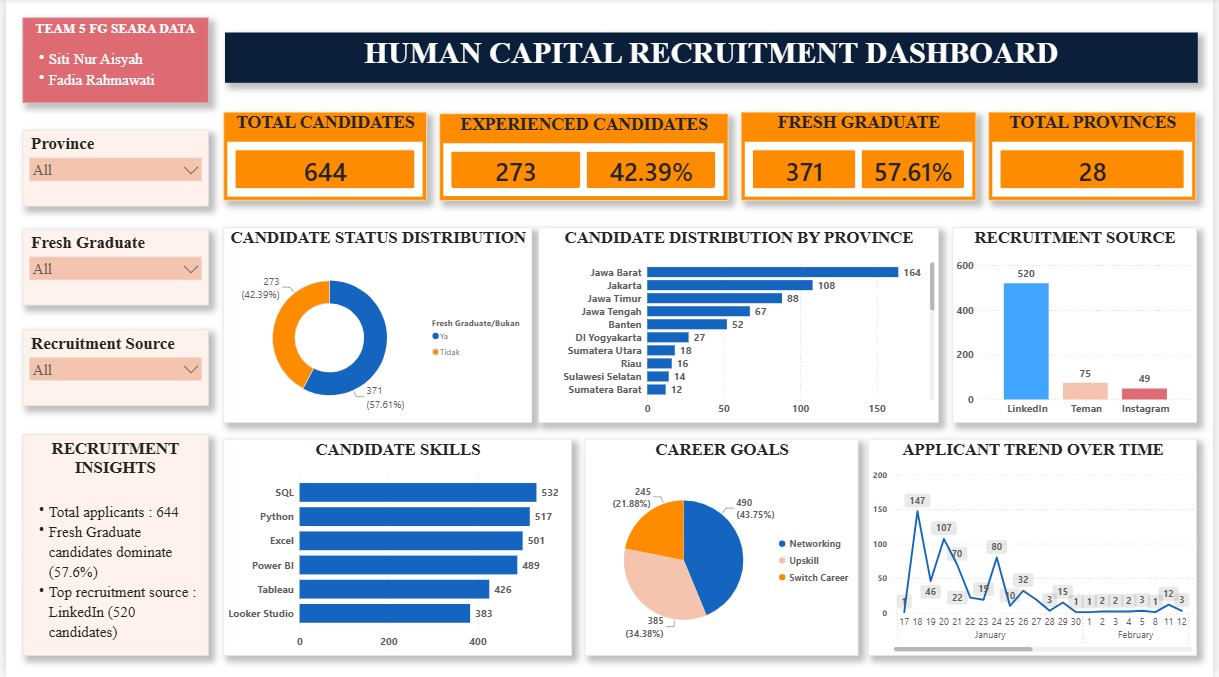

What the dashboard file says about the page in this screenshot:
{"tool":"powerbi","page":{"name":"Page 1","canvas":[1920,1080],"ordinal":0},"visuals":[{"type":"textbox","box":[347.3,55.9,1547.2,80.2],"z":0},{"type":"textbox","box":[26,32,296,136],"z":1000},{"type":"cardVisual","title":"TOTAL CANDIDATES","fields":{"Data":["Database_Seara_Data_Clean (2).Total Kandidat"]},"box":[344.9,182.2,323,140.9],"z":2000},{"type":"cardVisual","title":"EXPERIENCED CANDIDATES","fields":{"Data":["Database_Seara_Data_Clean (2).Berpengalaman","Database_Seara_Data_Clean (2).% Berpengalaman"]},"box":[689.8,184.6,459.1,138.4],"z":3000},{"type":"cardVisual","title":"FRESH GRADUATE","fields":{"Data":["Database_Seara_Data_Clean (2).Fresh Graduate","Database_Seara_Data_Clean (2).%Fresh Graduate"]},"box":[1168.8,185,373.8,140],"z":4000},{"type":"cardVisual","title":"TOTAL PROVINCES","fields":{"Data":["Database_Seara_Data_Clean (2).Total Provinsi"]},"box":[1561.2,185,331.2,140],"z":5000},{"type":"clusteredBarChart","title":"CANDIDATE SKILLS","fields":{"Category":["Database_Seara_Data_Clean (2).Attribute"],"Y":["Database_Seara_Data_Clean (2).Total Kandidat Memiliki Skill"]},"box":[344.9,701.9,553.8,344.9],"z":6000},{"type":"donutChart","title":"CANDIDATE STATUS DISTRIBUTION","fields":{"Category":["Database_Seara_Data_Clean (2).Apakah Anda Memiliki Pengalaman Lebih Dari 1 Tahun / Fresh Graduate"],"Y":["Database_Seara_Data_Clean (2).Total Kandidat"]},"box":[344.9,364.3,490.6,310.9],"z":7000},{"type":"clusteredBarChart","title":"CANDIDATE DISTRIBUTION BY PROVINCE","fields":{"Category":["Database_Seara_Data_Clean (2).Provinsi"],"Y":["Database_Seara_Data_Clean (2).Total Kandidat"]},"box":[847.7,364.3,636.4,310.9],"z":8000},{"type":"clusteredColumnChart","title":"RECRUITMENT SOURCE","fields":{"Category":["Database_Seara_Data_Clean (2).Mengetahui Perusahaan Dari Mana?"],"Y":["Database_Seara_Data_Clean (2).Total Kandidat"]},"box":[1505.9,364.3,388.6,310.9],"z":9000},{"type":"pieChart","title":"CAREER GOALS","fields":{"Category":["Database_Seara_Data_Clean (2).Target Masuk Perusahaan"],"Y":["Database_Seara_Data_Clean (2).Total Kandidat"]},"box":[920.5,701.9,434.8,344.9],"z":10000},{"type":"lineChart","title":"APPLICANT TREND OVER TIME","fields":{"Y":["Database_Seara_Data_Clean (2).Total Kandidat"],"Category":["Database_Seara_Data_Clean (2).Timestamp.Variation.Date Hierarchy.Month","Database_Seara_Data_Clean (2).Timestamp.Variation.Date Hierarchy.Day"]},"box":[1372.3,701.9,522.2,344.9],"z":11000},{"type":"slicer","fields":{"Values":["Database_Seara_Data_Clean (2).Provinsi"]},"box":[26.7,208.9,296.3,121.4],"z":12000},{"type":"slicer","fields":{"Values":["Database_Seara_Data_Clean (2).Apakah Anda Memiliki Pengalaman Lebih Dari 1 Tahun / Fresh Graduate"]},"box":[26.7,366.8,296.3,121.4],"z":13000},{"type":"slicer","fields":{"Values":["Database_Seara_Data_Clean (2).Mengetahui Perusahaan Dari Mana?"]},"box":[26.7,527.1,296.3,121.4],"z":14000},{"type":"textbox","box":[26.7,694.6,296,352],"z":15000}]}

Visuals, with their boxes in screenshot pixels (x1, y1, x2, y2), scaled from the page's 1920x1080 canvas onto the 1219x677 screenshot:
textbox: (220,35,1203,85)
textbox: (17,20,204,105)
"TOTAL CANDIDATES" cardVisual: (219,114,424,203)
"EXPERIENCED CANDIDATES" cardVisual: (438,116,729,202)
"FRESH GRADUATE" cardVisual: (742,116,979,204)
"TOTAL PROVINCES" cardVisual: (991,116,1201,204)
"CANDIDATE SKILLS" clusteredBarChart: (219,440,571,656)
"CANDIDATE STATUS DISTRIBUTION" donutChart: (219,228,530,423)
"CANDIDATE DISTRIBUTION BY PROVINCE" clusteredBarChart: (538,228,942,423)
"RECRUITMENT SOURCE" clusteredColumnChart: (956,228,1203,423)
"CAREER GOALS" pieChart: (584,440,860,656)
"APPLICANT TREND OVER TIME" lineChart: (871,440,1203,656)
slicer - Database_Seara_Data_Clean (2).Provinsi: (17,131,205,207)
slicer - Database_Seara_Data_Clean (2).Apakah Anda Memiliki Pengalaman Lebih Dari 1 Tahun / Fresh Graduate: (17,230,205,306)
slicer - Database_Seara_Data_Clean (2).Mengetahui Perusahaan Dari Mana?: (17,330,205,407)
textbox: (17,435,205,656)
